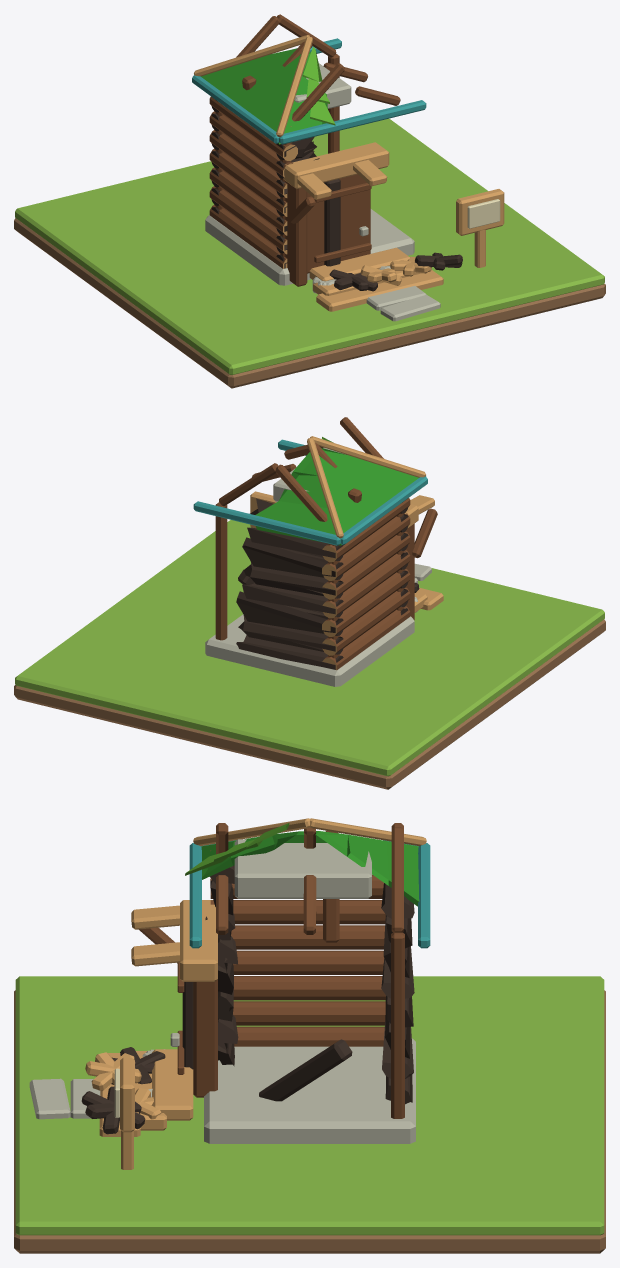
Rendered from town_hall_l02_damaged_LOD0.glb.
The picture shows the model from 3 angles, top to bottom: view 1: azimuth 30°, elevation 25°; view 2: azimuth 150°, elevation 25°; view 3: azimuth 270°, elevation 25°; orthographic projection. The views are drawn at different scales.
Visible parts, largest first — view 1: town_hall_l02_damaged_grass_tile, town_hall_l02_damaged_earth_tile, town_hall_l02_damaged_door_recess, town_hall_l02_damaged_foundation, town_hall_l02_damaged_door_lintel, town_hall_l02_damaged_hip_roof_shingle.011, town_hall_l02_damaged_door_jamb, town_hall_l02_damaged_entry_step.002, town_hall_l02_damaged_eave_trim, town_hall_l02_damaged_hip_roof_shingle.010, town_hall_l02_damaged_wall_log.014, town_hall_l02_damaged_wall_log.010 (+20 smaller); view 2: town_hall_l02_damaged_grass_tile, town_hall_l02_damaged_earth_tile, town_hall_l02_damaged_foundation, town_hall_l02_damaged_hip_roof_shingle.011, town_hall_l02_damaged_wall_log.009, town_hall_l02_damaged_wall_log.021, town_hall_l02_damaged_exposed_frame_post.002, town_hall_l02_damaged_eave_trim.002, town_hall_l02_damaged_wall_log.017, town_hall_l02_damaged_wall_log.005, town_hall_l02_damaged_hip_roof_shingle.010, town_hall_l02_damaged_wall_log.013 (+19 smaller); view 3: town_hall_l02_damaged_grass_tile, town_hall_l02_damaged_foundation, town_hall_l02_damaged_earth_tile, town_hall_l02_damaged_surviving_tower_course, town_hall_l02_damaged_wall_log.006, town_hall_l02_damaged_wall_log.010, town_hall_l02_damaged_wall_log.014, town_hall_l02_damaged_wall_log.018, town_hall_l02_damaged_wall_log.022, town_hall_l02_damaged_wall_log.002, town_hall_l02_damaged_door_recess, town_hall_l02_damaged_exposed_frame_post.002 (+20 smaller).
Part boxes in pixels (left/top/right/bottom): town_hall_l02_damaged_grass_tile: left=15, top=118, right=604, bottom=374; town_hall_l02_damaged_earth_tile: left=14, top=218, right=605, bottom=388; town_hall_l02_damaged_door_recess: left=307, top=174, right=370, bottom=273; town_hall_l02_damaged_foundation: left=205, top=209, right=414, bottom=285; town_hall_l02_damaged_door_lintel: left=283, top=142, right=389, bottom=188; town_hall_l02_damaged_hip_roof_shingle.011: left=201, top=66, right=284, bottom=143; town_hall_l02_damaged_door_jamb: left=285, top=181, right=307, bottom=286; town_hall_l02_damaged_entry_step.002: left=316, top=270, right=443, bottom=311; town_hall_l02_damaged_eave_trim: left=279, top=100, right=426, bottom=144; town_hall_l02_damaged_hip_roof_shingle.010: left=233, top=54, right=295, bottom=103; town_hall_l02_damaged_wall_log.014: left=209, top=148, right=287, bottom=216; town_hall_l02_damaged_wall_log.010: left=209, top=167, right=287, bottom=235; town_hall_l02_damaged_grass_tile: left=15, top=520, right=604, bottom=776; town_hall_l02_damaged_earth_tile: left=14, top=619, right=605, bottom=789; town_hall_l02_damaged_foundation: left=205, top=614, right=414, bottom=686; town_hall_l02_damaged_hip_roof_shingle.011: left=334, top=467, right=418, bottom=545; town_hall_l02_damaged_wall_log.009: left=236, top=591, right=343, bottom=635; town_hall_l02_damaged_wall_log.021: left=242, top=537, right=343, bottom=579; town_hall_l02_damaged_exposed_frame_post.002: left=215, top=502, right=227, bottom=640; town_hall_l02_damaged_eave_trim.002: left=193, top=501, right=340, bottom=545; town_hall_l02_damaged_wall_log.017: left=244, top=561, right=343, bottom=598; town_hall_l02_damaged_wall_log.005: left=238, top=615, right=343, bottom=654; town_hall_l02_damaged_hip_roof_shingle.010: left=324, top=455, right=386, bottom=504; town_hall_l02_damaged_wall_log.013: left=242, top=582, right=343, bottom=617; town_hall_l02_damaged_grass_tile: left=15, top=976, right=604, bottom=1235; town_hall_l02_damaged_foundation: left=204, top=1038, right=415, bottom=1143; town_hall_l02_damaged_earth_tile: left=14, top=990, right=605, bottom=1253; town_hall_l02_damaged_surviving_tower_course: left=234, top=839, right=371, bottom=898; town_hall_l02_damaged_wall_log.006: left=233, top=1001, right=385, bottom=1025; town_hall_l02_damaged_wall_log.010: left=233, top=976, right=385, bottom=1000; town_hall_l02_damaged_wall_log.014: left=233, top=950, right=384, bottom=974; town_hall_l02_damaged_wall_log.018: left=231, top=925, right=384, bottom=949; town_hall_l02_damaged_wall_log.022: left=210, top=900, right=385, bottom=924; town_hall_l02_damaged_wall_log.002: left=234, top=1026, right=384, bottom=1046; town_hall_l02_damaged_door_recess: left=193, top=979, right=217, bottom=1097; town_hall_l02_damaged_exposed_frame_post.002: left=391, top=932, right=404, bottom=1118.
Size of the model in its own units: 3.6 by 2.09 by 3.6.
